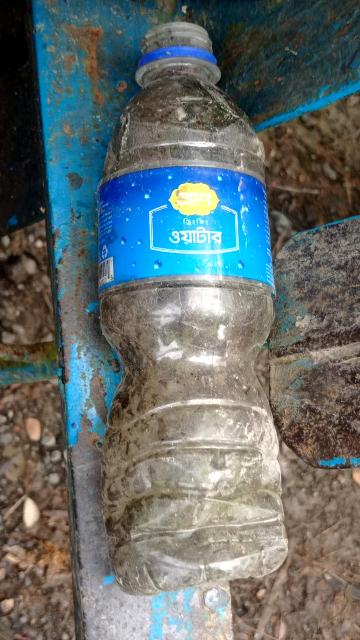bottle: (99, 35, 300, 593)
